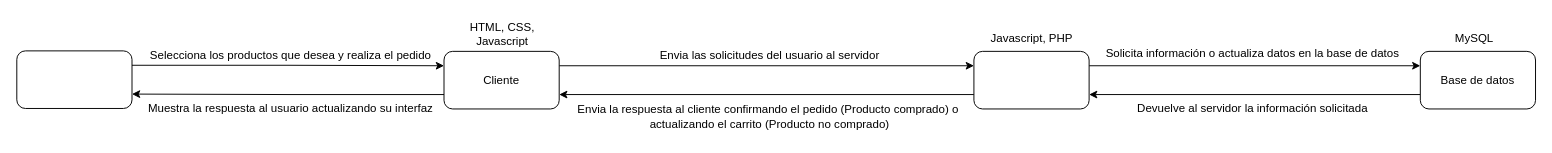
The diagram is 1552 pixels wide and 153 high, and some of its shapes have lost their labels. Each missing label, with the centre of its shape:
"Servidor" goes at point 1031,79.
"Usuario" goes at point 74,79.
